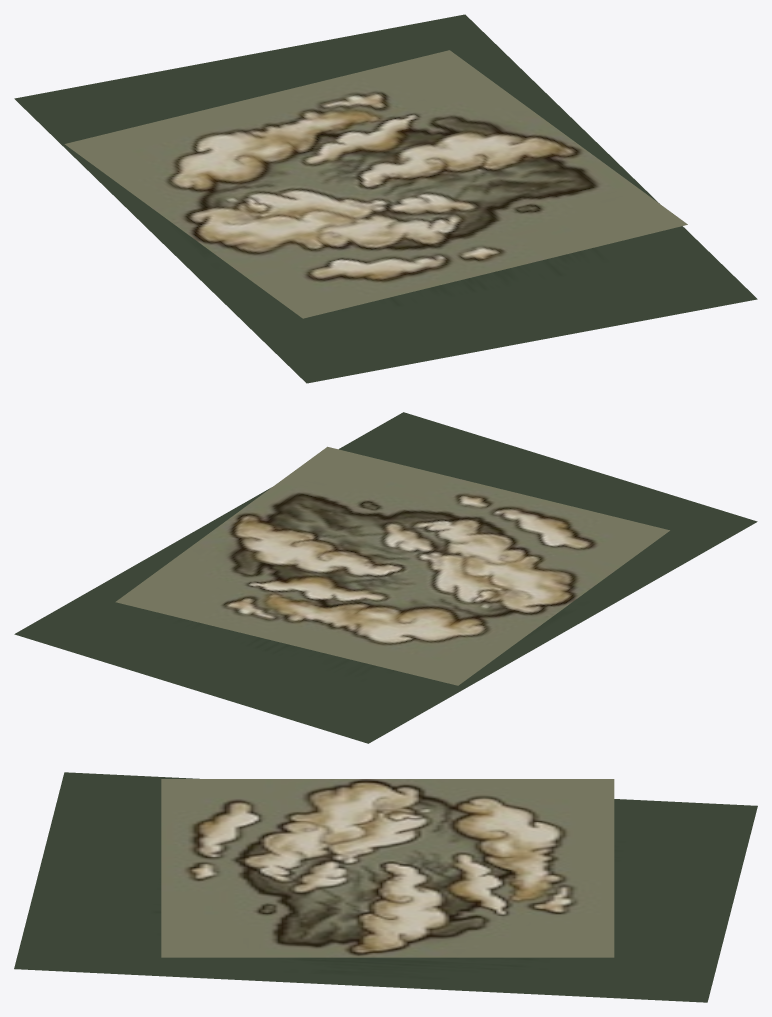
Rendered from pir_m_are_isl_mysterious_03_worldmap.fbx.
3 renders of one model, top to bottom at view 1: azimuth 30°, elevation 25°; view 2: azimuth 150°, elevation 25°; view 3: azimuth 270°, elevation 25°, orthographic. The views are drawn at different scales.
Parts seen in each view (by area): view 1: top_mesh, sketchmark; view 2: top_mesh, sketchmark; view 3: top_mesh, sketchmark.
Boxes of the visible parts, x1,y1,x2,y2 form: top_mesh: [64, 50, 687, 318]; sketchmark: [14, 14, 757, 383]; top_mesh: [115, 446, 669, 685]; sketchmark: [14, 412, 757, 743]; top_mesh: [161, 779, 614, 957]; sketchmark: [14, 772, 757, 1002].
Bounding box in the file's own units: 51.41 × 1.58 × 70.15.
1 material, 1 textured.
